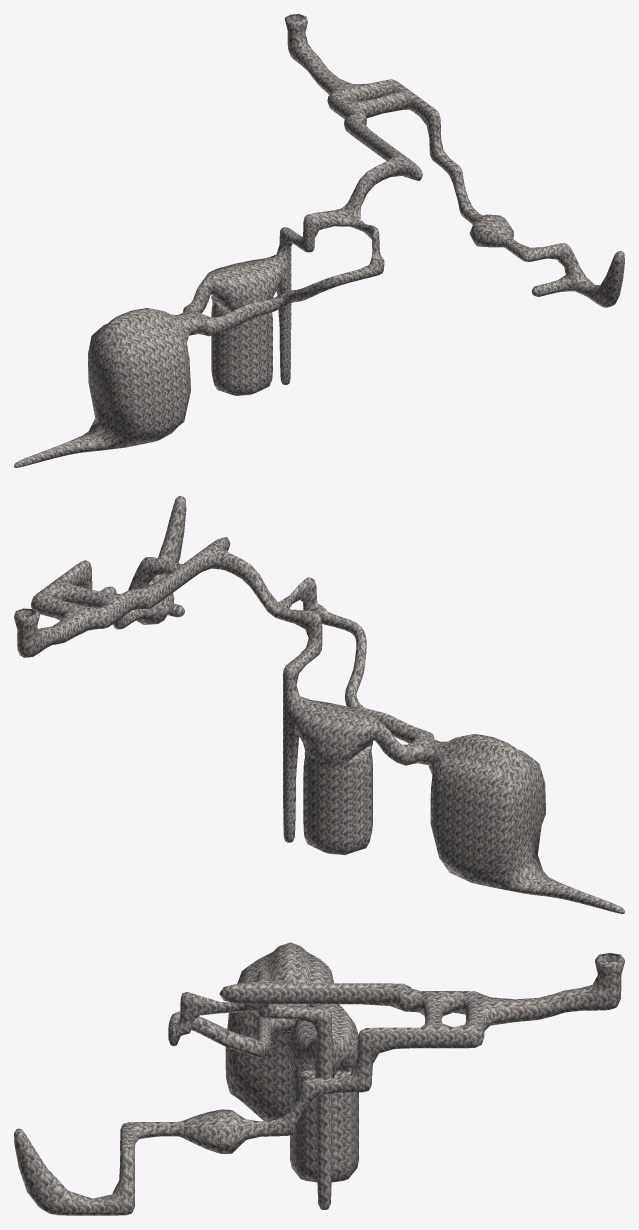
The model's file is THE_CAVES_SYSTEM.glb.
3 views of the same model, one above another, from view 1: azimuth 30°, elevation 25°; view 2: azimuth 150°, elevation 25°; view 3: azimuth 270°, elevation 25° (orthographic). The views are drawn at different scales.
Visible parts, largest first — view 1: CAVES-COL.001; view 2: CAVES-COL.001; view 3: CAVES-COL.001.
Boxes of the visible parts, left/top/right/bottom form: CAVES-COL.001: left=14, top=14, right=624, bottom=467; CAVES-COL.001: left=14, top=496, right=624, bottom=913; CAVES-COL.001: left=14, top=942, right=624, bottom=1215.
Bounding box in the file's own units: 1494 × 733 × 1216.
Materials: 1 (1 with a texture image).
